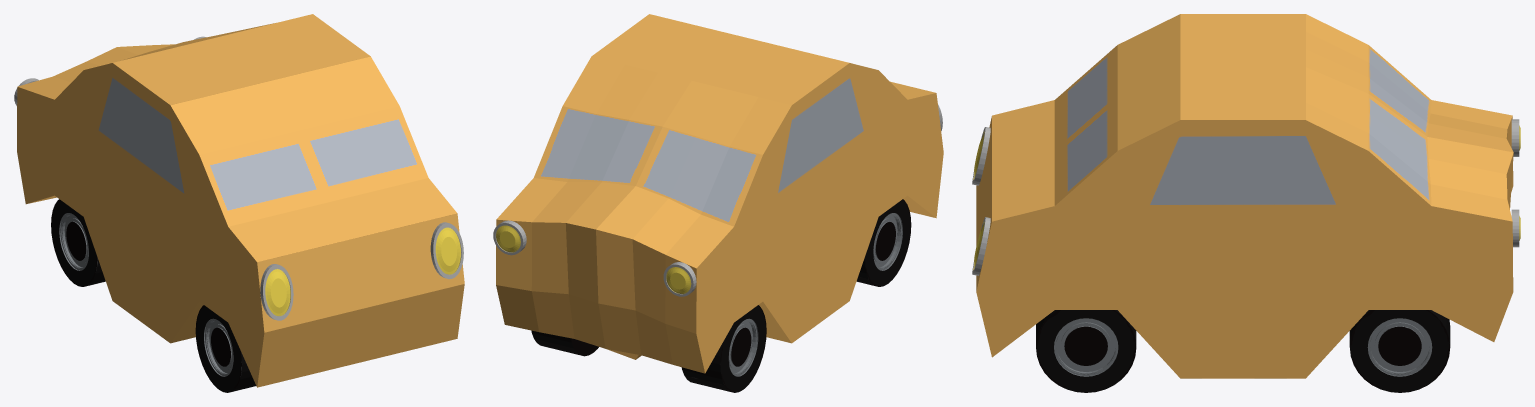
File: SimpleCar.glb
3 views of the same model, side by side, from view 1: azimuth 30°, elevation 25°; view 2: azimuth 150°, elevation 25°; view 3: azimuth 270°, elevation 25° (orthographic). The views are drawn at different scales.
Visible parts, largest first — view 1: Car, Tire1.001, CarLights.001; view 2: Car, Tire1.001, CarLights.001; view 3: Car, Tire1.001, CarLights.001.
Boxes of the visible parts, left/top/right/bottom form: Car: left=17, top=14, right=464, bottom=387; Tire1.001: left=51, top=199, right=256, bottom=392; CarLights.001: left=14, top=36, right=463, bottom=320; Car: left=496, top=14, right=943, bottom=373; Tire1.001: left=531, top=199, right=911, bottom=392; CarLights.001: left=493, top=104, right=942, bottom=296; Car: left=976, top=14, right=1513, bottom=378; Tire1.001: left=1036, top=310, right=1450, bottom=392; CarLights.001: left=972, top=119, right=1520, bottom=275.
Bounding box in the file's own units: 2 × 2.42 × 4.37.
3 materials, 3 textured.
